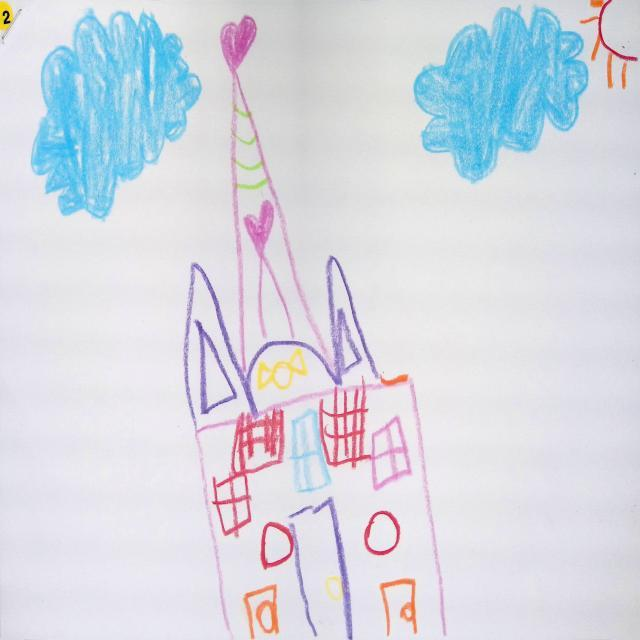door: (288, 496, 355, 640), (379, 576, 419, 640), (238, 583, 281, 640)
house: (184, 19, 446, 640)
roof: (181, 64, 393, 433)
wall: (199, 378, 444, 640)
window: (320, 383, 371, 468), (291, 410, 331, 493), (373, 417, 412, 490), (235, 410, 282, 466), (213, 475, 252, 537)
